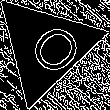O_SW: (12, 13, 80, 81)
